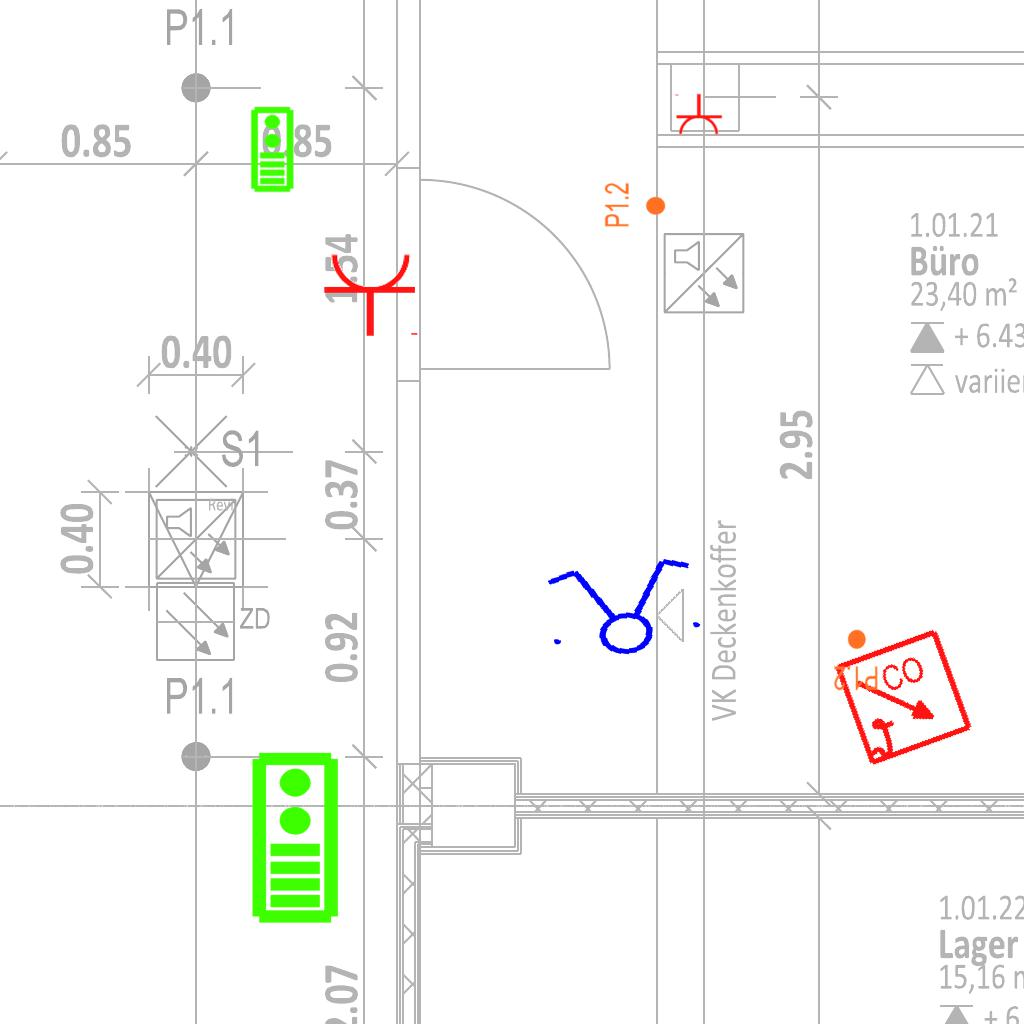Downlight_LED_Einbauleuchten_Flur: (603, 182, 667, 228), (833, 628, 879, 692)
Gegensprechanlage_mit_Video: (246, 749, 341, 925), (248, 105, 295, 193)
ROA_Rauchmelder_optisch_mit_Signalgeber_(Sockelsirene): (832, 626, 977, 771)
Schukosteckdose_einfach: (322, 251, 422, 338), (673, 93, 723, 136)
Serienschalter: (532, 550, 712, 666)
